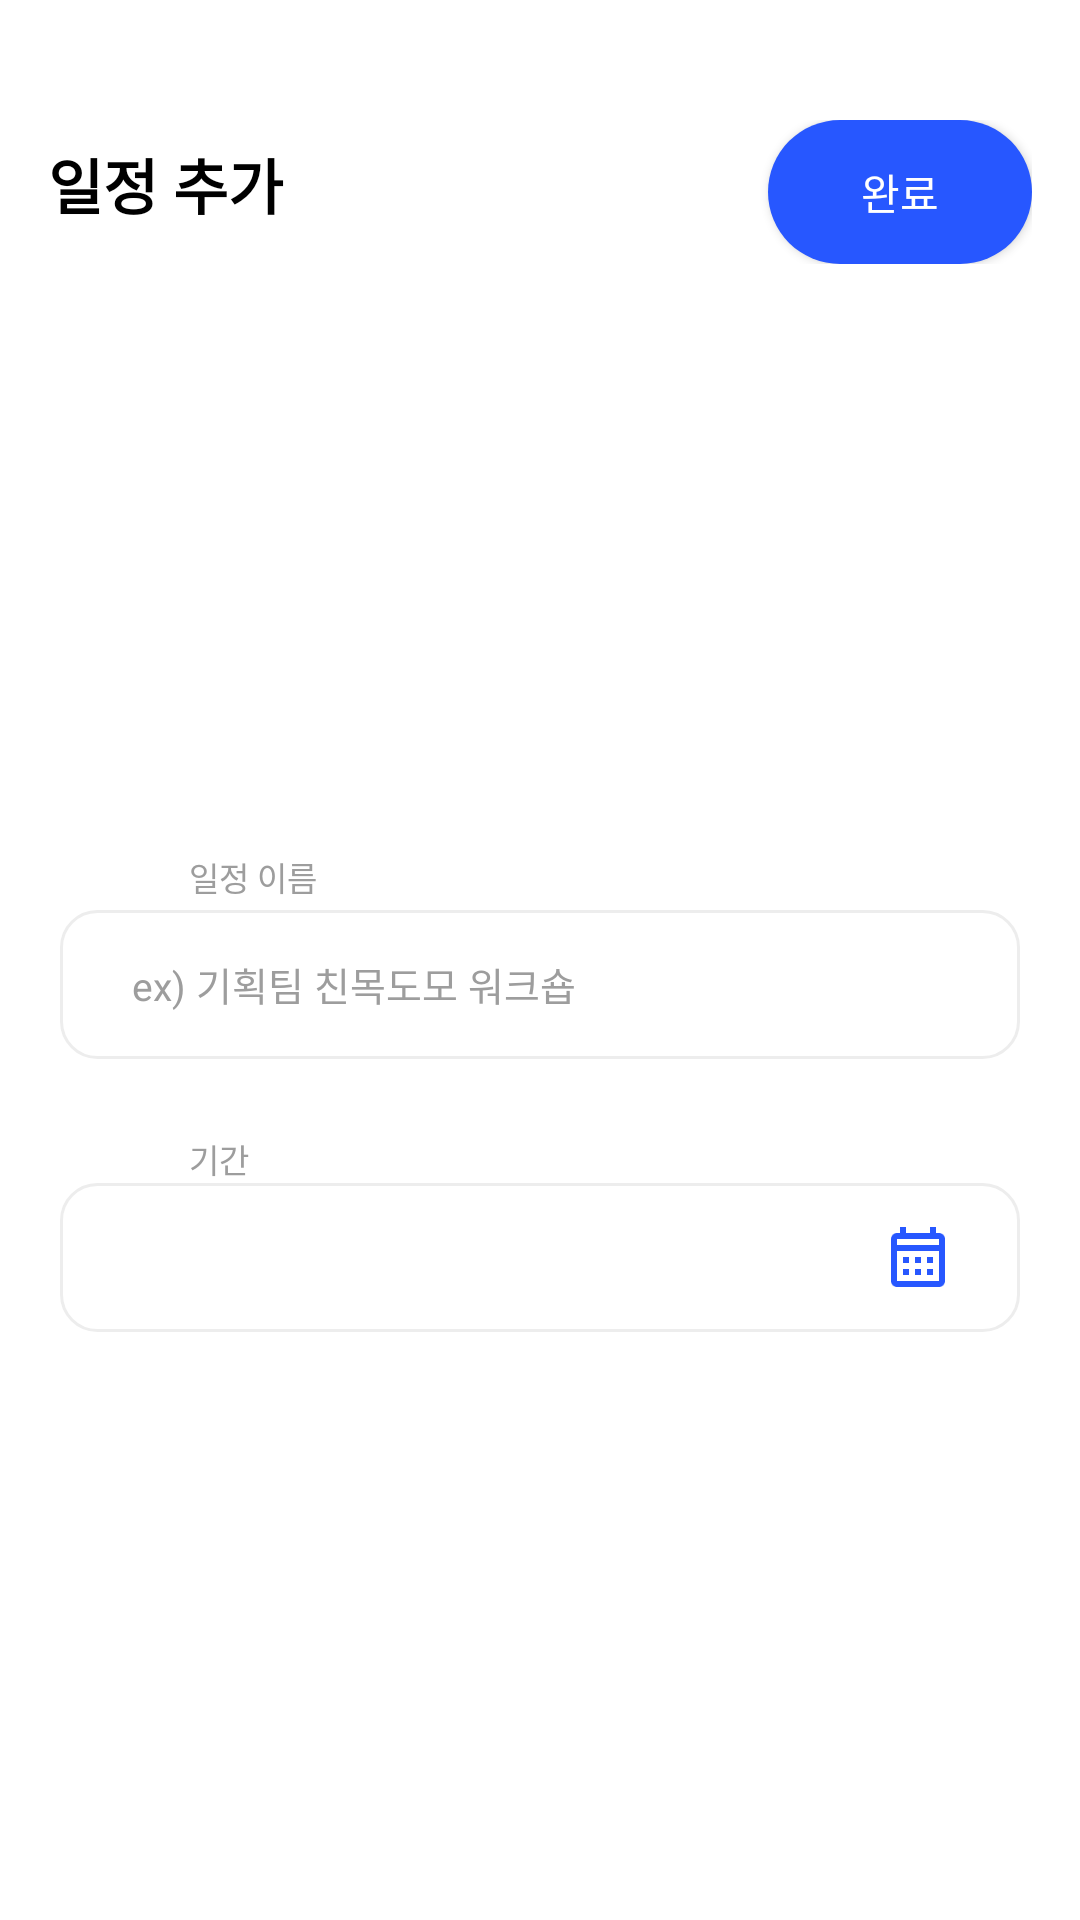

Icons on this 1080w x 1920h Android screen, each with the point to tap as point (x, y):
calendar: point (918, 1257)
